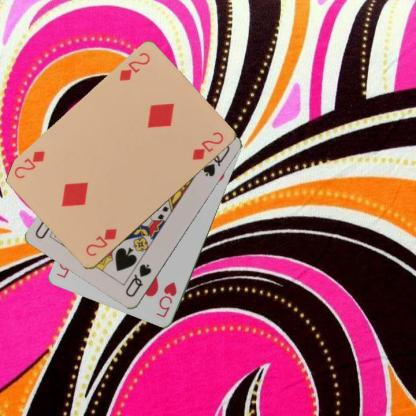2d: (116, 50, 152, 83), (82, 226, 118, 258)
5h: (154, 280, 178, 320)
Qs: (123, 261, 153, 299)
